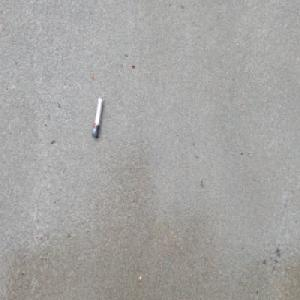Battery: (91, 96, 103, 139)
